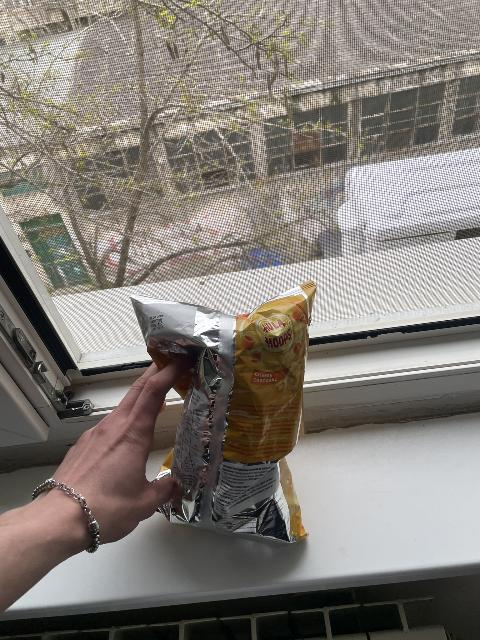Chio Hula Hoops Cheese 70g: (136, 288, 316, 542)
